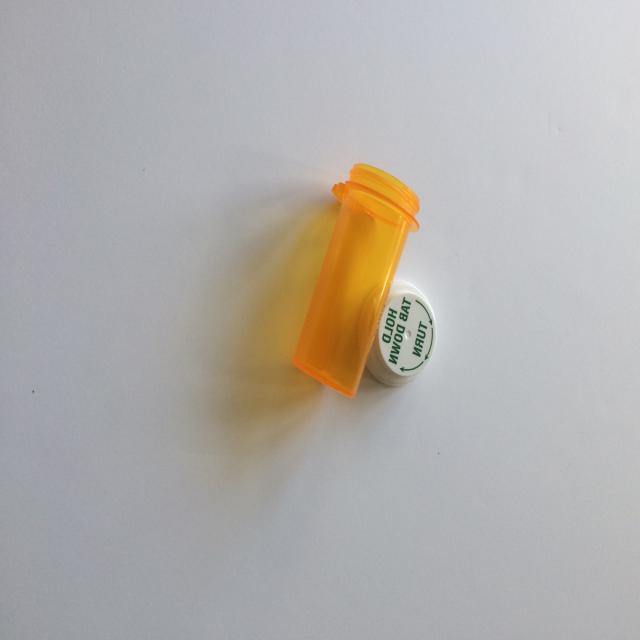plastic: (292, 162, 421, 398)
